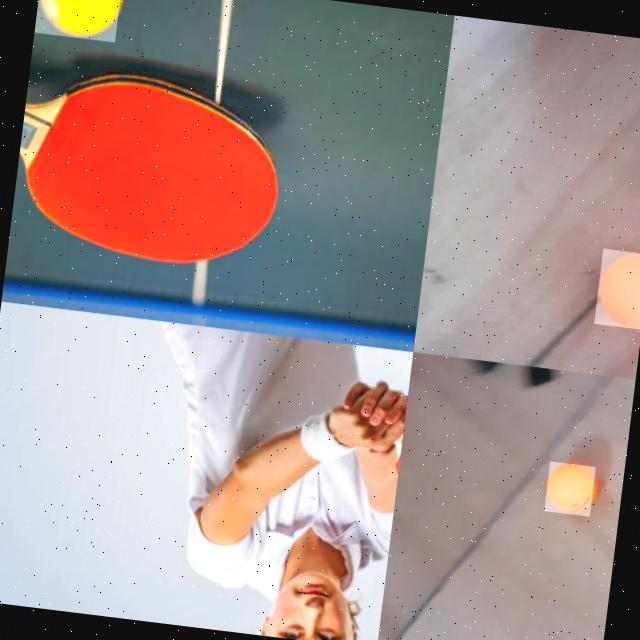ping-pong-ball: (592, 244, 640, 328), (33, 0, 123, 41), (542, 459, 596, 515)
